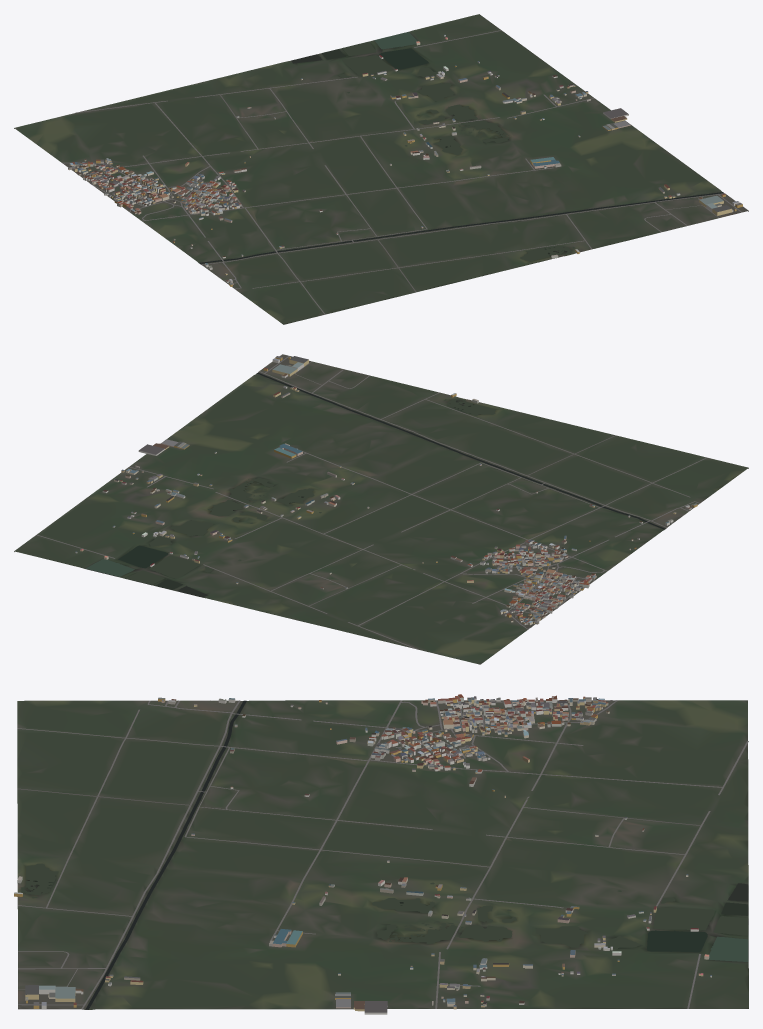
The picture shows the model from 3 angles, top to bottom: view 1: azimuth 30°, elevation 25°; view 2: azimuth 150°, elevation 25°; view 3: azimuth 270°, elevation 25°; orthographic projection. The views are drawn at different scales.
Visible parts, largest first — view 1: ground, buildings, water, roads; view 2: ground, buildings, water, roads; view 3: ground, buildings, water, roads.
Boxes of the visible parts, left/top/right/bottom form: ground: left=14, top=14, right=748, bottom=324; buildings: left=68, top=34, right=742, bottom=286; water: left=199, top=32, right=723, bottom=263; roads: left=62, top=30, right=742, bottom=314; ground: left=14, top=354, right=748, bottom=664; buildings: left=75, top=356, right=697, bottom=625; water: left=86, top=372, right=665, bottom=597; roads: left=36, top=356, right=706, bottom=649; ground: left=17, top=700, right=748, bottom=1009; buildings: left=14, top=694, right=711, bottom=1014; water: left=21, top=700, right=748, bottom=1009; roads: left=17, top=700, right=748, bottom=1009.
Bounding box in the file's own units: 1434 × 15.97 × 1410.
